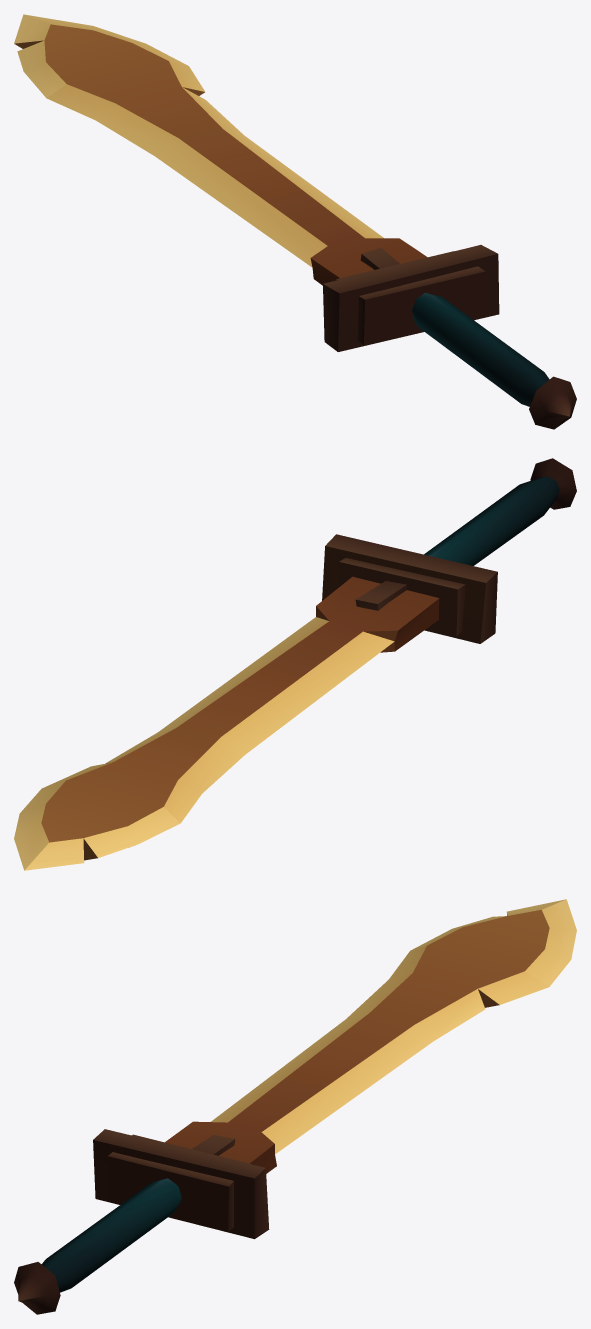
The model's file is sword-brown.fbx.
3 views of the same model, one above another, from view 1: azimuth 30°, elevation 25°; view 2: azimuth 150°, elevation 25°; view 3: azimuth 330°, elevation 25° (orthographic).
Parts seen in each view (by area): view 1: sword2h01_brown; view 2: sword2h01_brown; view 3: sword2h01_brown.
Part boxes in pixels (x1,y1,x2,y2): sword2h01_brown: (14,14,576,429); sword2h01_brown: (14,458,576,870); sword2h01_brown: (14,899,576,1314).
Size of the model in its own units: 14.22 by 5.13 by 82.54.
Materials: 1 (1 with a texture image).
